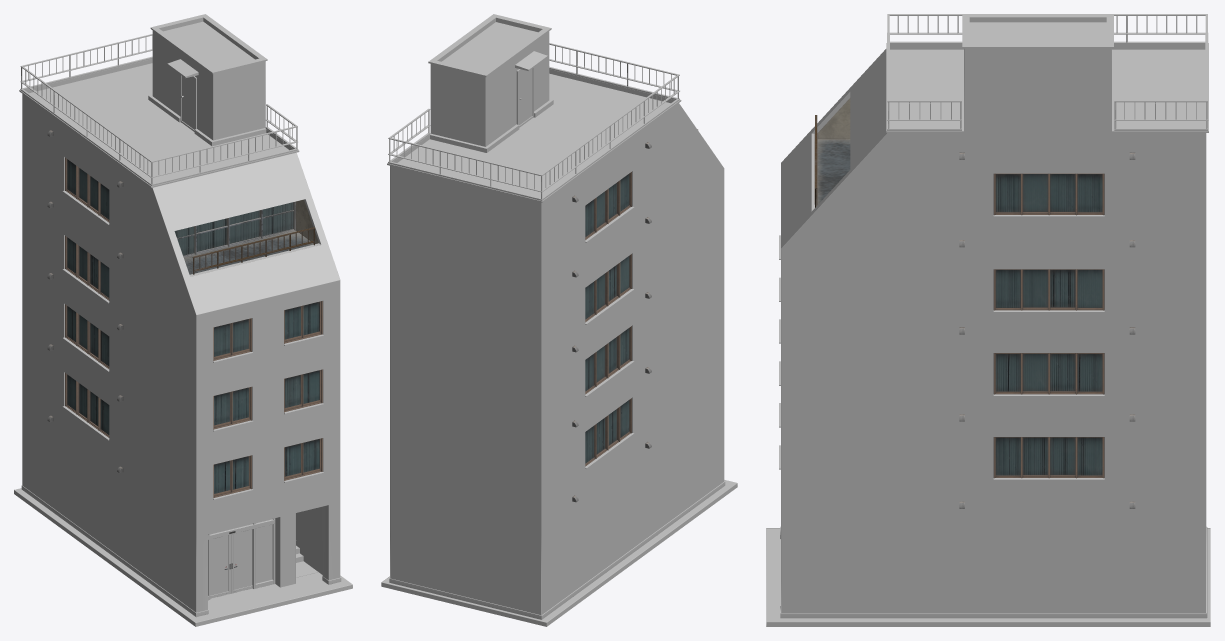
The model's file is BldB.fbx.
3 views of the same model, side by side, from view 1: azimuth 30°, elevation 25°; view 2: azimuth 150°, elevation 25°; view 3: azimuth 270°, elevation 25° (orthographic). The views are drawn at different scales.
Visible parts, largest first — view 1: BldB_LOD0; view 2: BldB_LOD0; view 3: BldB_LOD0.
Boxes of the visible parts, x1,y1,x2,y2 form: BldB_LOD0: (14,14,352,626); BldB_LOD0: (381,14,737,626); BldB_LOD0: (766,14,1210,626).
Size of the model in its own units: 600 by 1720 by 1200.
